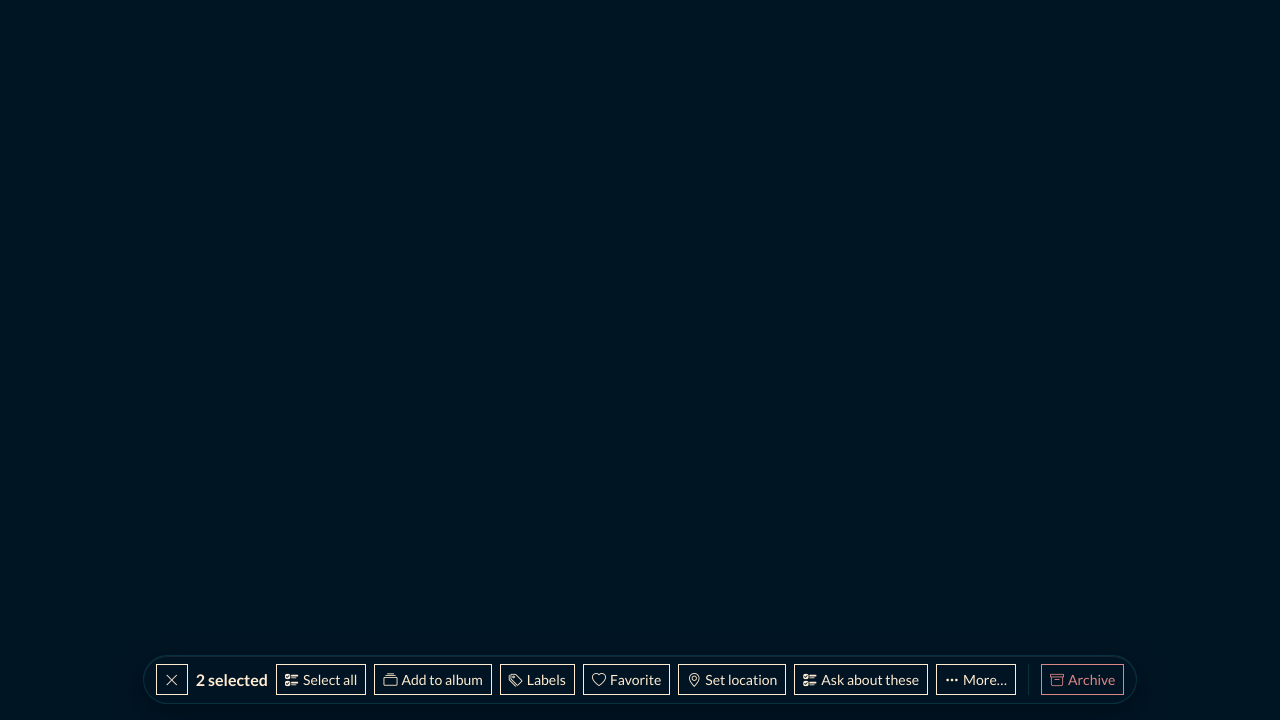
BatchActionBar › opens the album picker, loading its options, with apply gated on a choice
Step 1. Click the button "Add to album" → (433, 680), box [374,664,492,695]
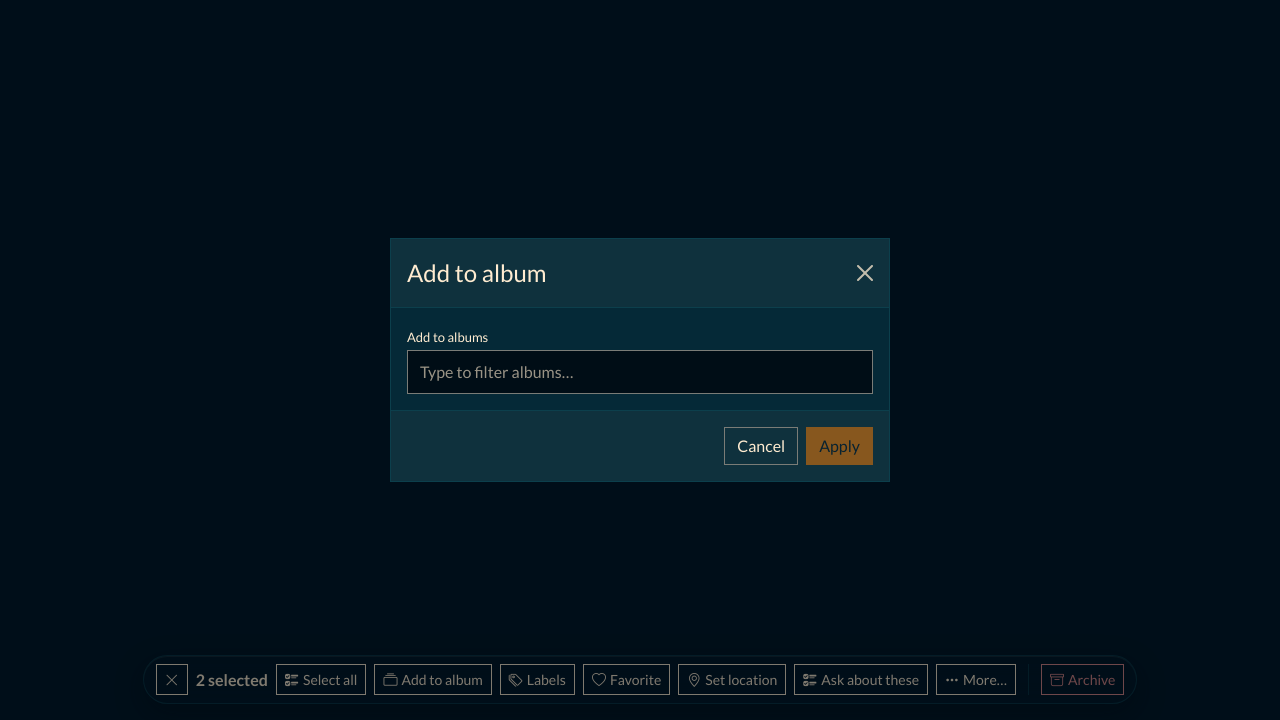
Result: the dropdown labelled "Add to albums" is shown at [407,350,873,394]
Result: the button "Apply" is disabled at [806,427,873,465]
